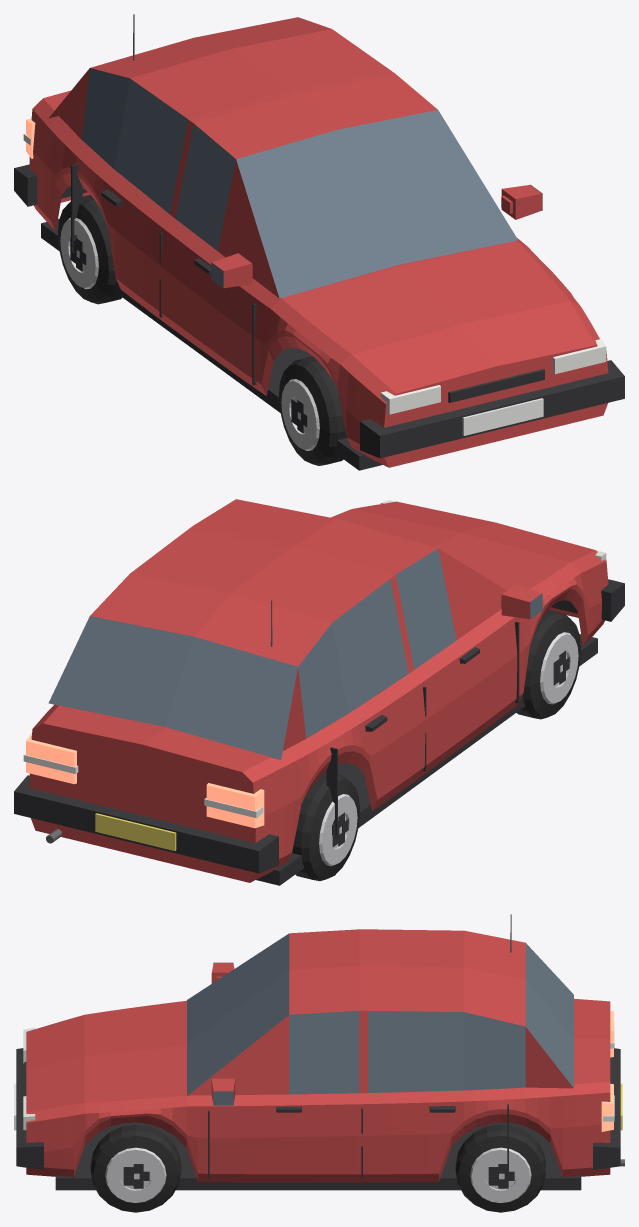
File: exterior_parked_car_a.fbx
3 views of the same model, one above another, from view 1: azimuth 30°, elevation 25°; view 2: azimuth 150°, elevation 25°; view 3: azimuth 270°, elevation 25° (orthographic). The views are drawn at different scales.
Visible parts, largest first — view 1: exterior_parked_car_a; view 2: exterior_parked_car_a; view 3: exterior_parked_car_a.
Part boxes in pixels (box(x1,y1,x2,y2)): exterior_parked_car_a: box(14, 14, 624, 470); exterior_parked_car_a: box(14, 499, 624, 885); exterior_parked_car_a: box(14, 914, 624, 1212).
Size of the model in its own units: 2.08 by 1.68 by 4.18.
